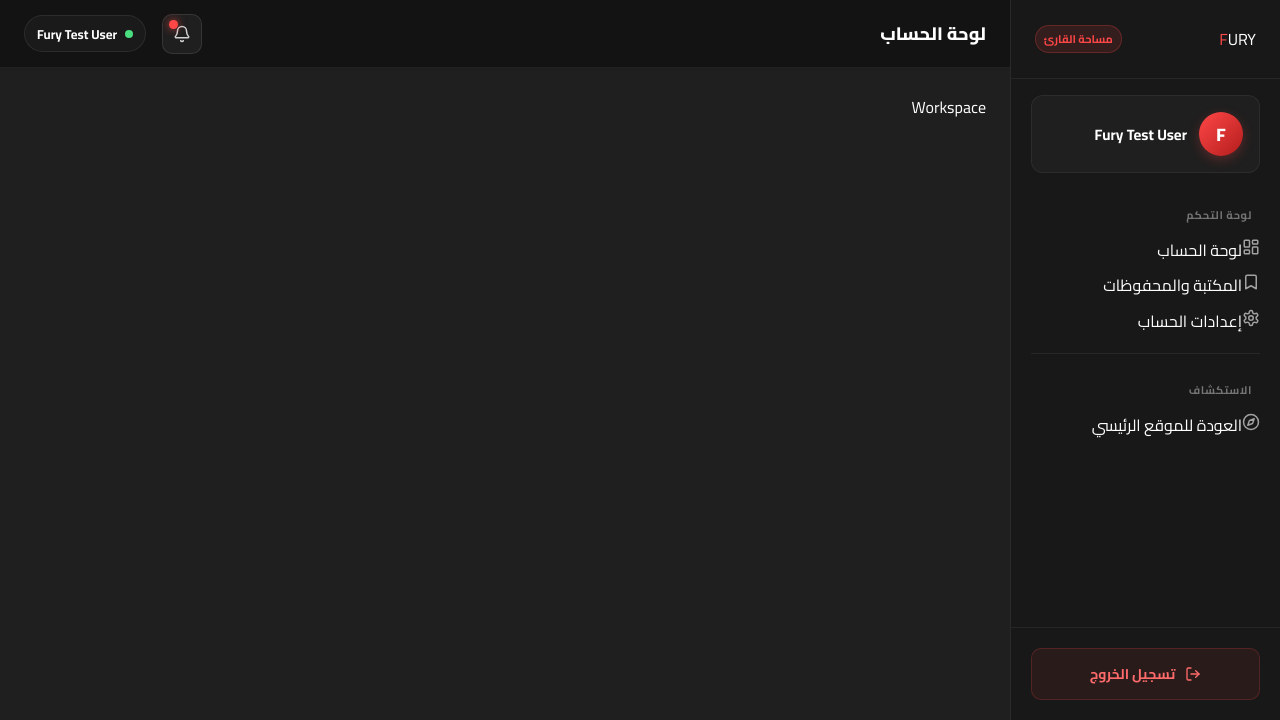
Test: WorkspaceShell session control › shows an actionable failure without navigating and permits retry
Click the button "تسجيل الخروج": [1146, 674] box [1031, 648, 1260, 700]
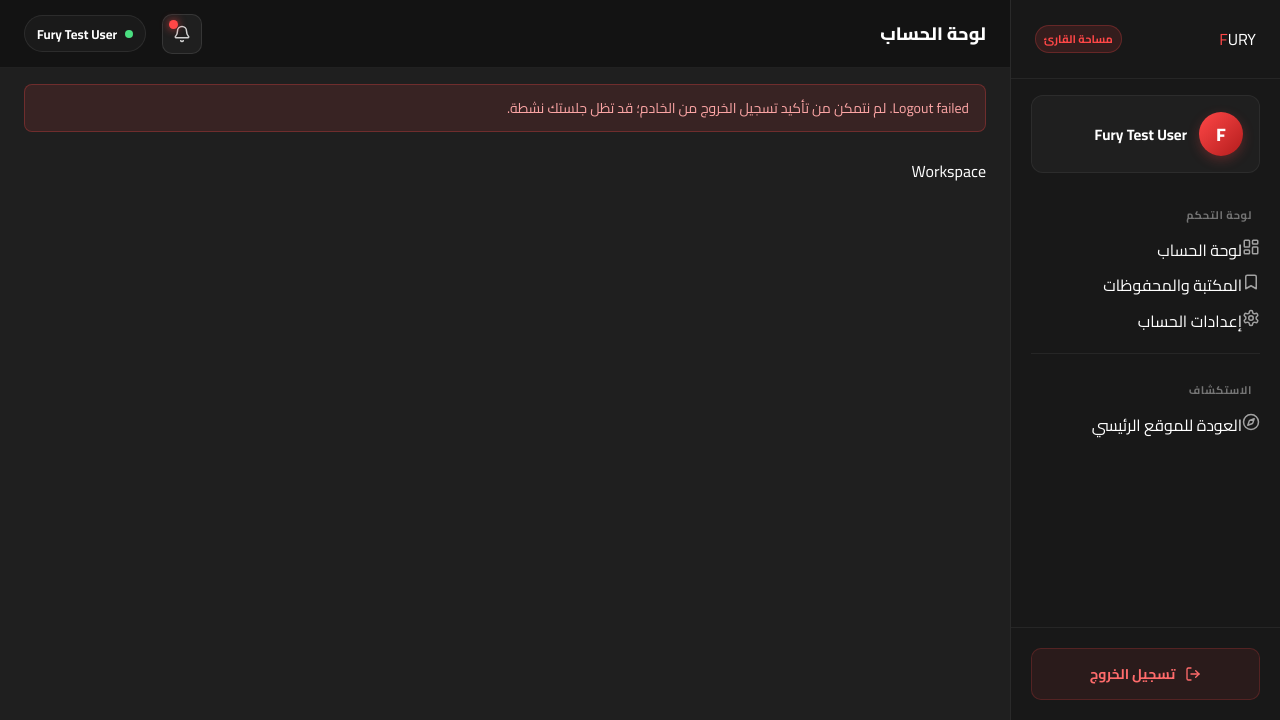
Check: the message shows "لم نتمكن من تأكيد تسجيل الخروج من الخادم", box [507, 95, 969, 121]
Click the button "تسجيل الخروج": [1146, 674] box [1031, 648, 1260, 700]
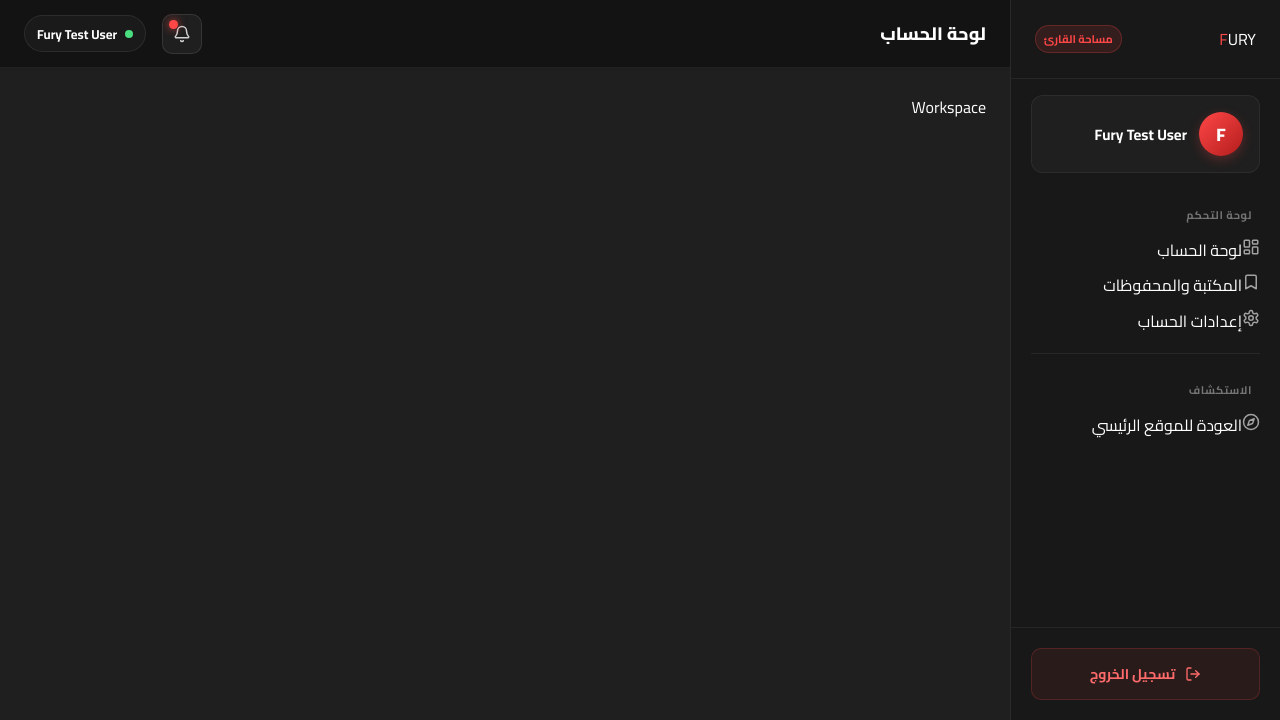
Check: the message "Logout failed. لم نتمكن من تأكيد تسجيل الخروج من الخادم؛ قد تظل جلستك نشطة." is gone
